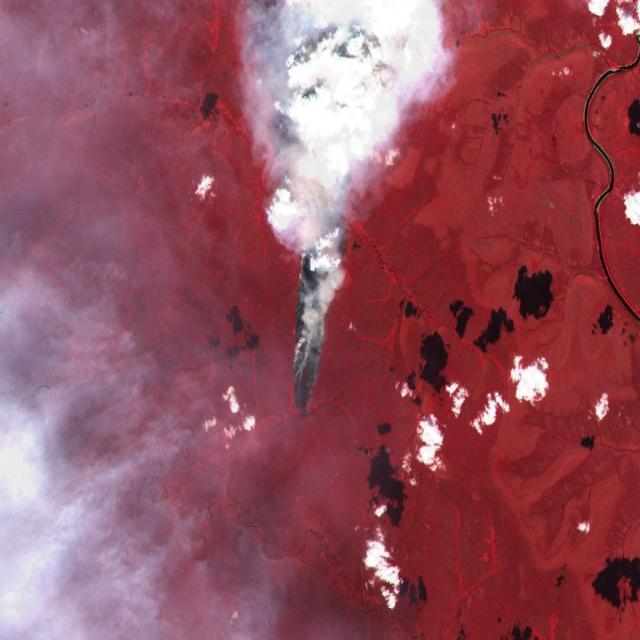fire: (284, 197, 342, 415)
